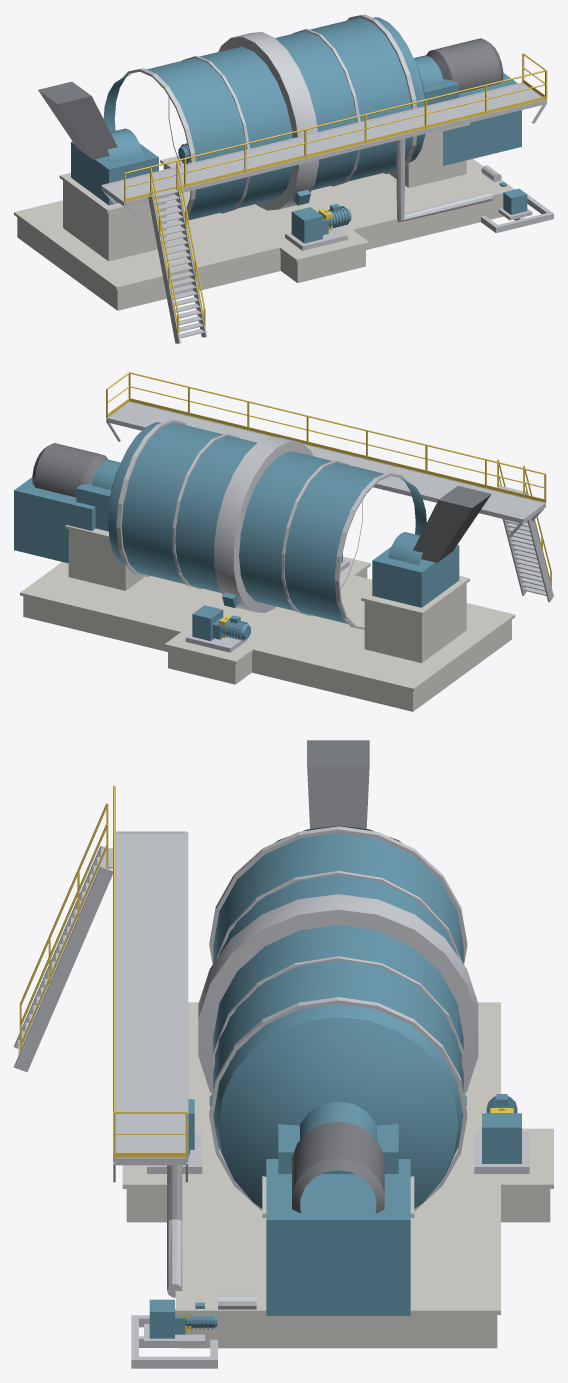
Rendered from ore-processing-and-haulage-plant-ball-mill-53210c99.glb.
3 renders of one model, top to bottom at view 1: azimuth 30°, elevation 25°; view 2: azimuth 150°, elevation 25°; view 3: azimuth 270°, elevation 25°, orthographic. The views are drawn at different scales.
Visible parts, largest first — view 1: ball-mill, mill-shell (×2); view 2: ball-mill, mill-shell (×2); view 3: ball-mill, mill-shell (×2).
Boxes of the visible parts, x1,y1,x2,y2 form: ball-mill: (14,38,553,343); mill-shell (×2): (103,14,442,220); ball-mill: (14,372,553,711); mill-shell (×2): (92,419,426,629); ball-mill: (14,740,553,1368); mill-shell (×2): (198,825,478,1211).
Bounding box in the file's own units: 17.15 × 6.74 × 11.22.
